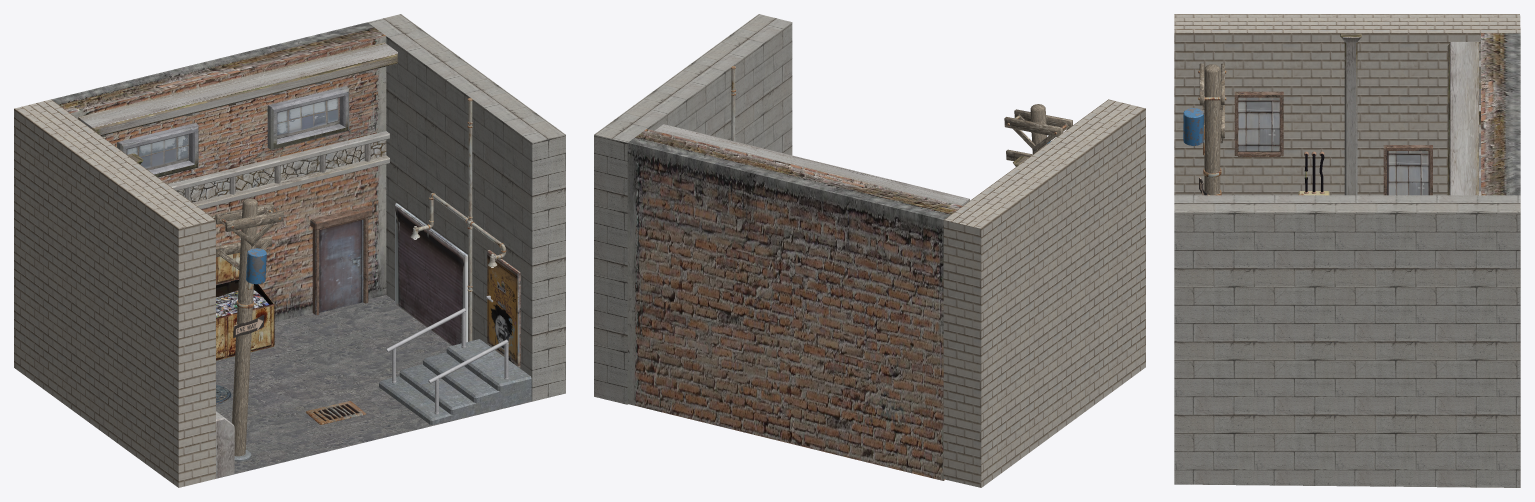
The model's file is backstreet.glb.
3 views of the same model, side by side, from view 1: azimuth 30°, elevation 25°; view 2: azimuth 150°, elevation 25°; view 3: azimuth 270°, elevation 25° (orthographic). The views are drawn at different scales.
Parts seen in each view (by area): view 1: Plane_Yellow facade brick_0, Plane.002_Material.002_0, Plane.003_Red Brick_0, Floor_Asphalt_0, Cube.009_Concrete facade_0, Cube.007_Concret stairs_0, Cube.025_Material.001_0, Cube.003_Wood ecectric stand_0, Cube.013_Windows frames cocrete_0, Wood door_Material_0, Cube.016_Graffity door_0, windows brick wall_Horizontal window_0 (+8 smaller); view 2: Plane.003_Red Brick_0, Plane_Yellow facade brick_0, Plane.002_Material.002_0, Cube.009_Concrete facade_0, Cube.003_Wood ecectric stand_0; view 3: Plane.002_Material.002_0, Plane_Yellow facade brick_0, Cube.009_Concrete facade_0, Plane.003_Red Brick_0, Cube.030_Window vertical_0, Cube.003_Wood ecectric stand_0, Cube.024_wood parts_0, Cylinder.001_Blue metal_0, Cube.020_Black plastic_0.
Boxes of the visible parts, x1=… form: Plane_Yellow facade brick_0: x1=14, y1=99, x2=215, y2=487; Plane.002_Material.002_0: x1=368, y1=14, x2=565, y2=401; Plane.003_Red Brick_0: x1=51, y1=22, x2=386, y2=321; Floor_Asphalt_0: x1=216, y1=295, x2=531, y2=478; Cube.009_Concrete facade_0: x1=78, y1=42, x2=397, y2=478; Cube.007_Concret stairs_0: x1=234, y1=339, x2=531, y2=461; Cube.025_Material.001_0: x1=395, y1=203, x2=467, y2=345; Cube.003_Wood ecectric stand_0: x1=215, y1=198, x2=283, y2=456; Cube.013_Windows frames cocrete_0: x1=117, y1=86, x2=349, y2=177; Wood door_Material_0: x1=319, y1=219, x2=363, y2=312; Cube.016_Graffity door_0: x1=487, y1=250, x2=520, y2=367; windows brick wall_Horizontal window_0: x1=126, y1=97, x2=339, y2=170; Plane.003_Red Brick_0: x1=627, y1=129, x2=962, y2=480; Plane_Yellow facade brick_0: x1=943, y1=99, x2=1145, y2=487; Plane.002_Material.002_0: x1=594, y1=14, x2=792, y2=404; Cube.009_Concrete facade_0: x1=654, y1=124, x2=1028, y2=205; Cube.003_Wood ecectric stand_0: x1=1004, y1=104, x2=1072, y2=161; Plane.002_Material.002_0: x1=1174, y1=195, x2=1520, y2=487; Plane_Yellow facade brick_0: x1=1174, y1=14, x2=1520, y2=195; Cube.009_Concrete facade_0: x1=1340, y1=33, x2=1480, y2=195; Plane.003_Red Brick_0: x1=1481, y1=33, x2=1520, y2=195; Cube.030_Window vertical_0: x1=1238, y1=97, x2=1429, y2=195; Cube.003_Wood ecectric stand_0: x1=1199, y1=63, x2=1224, y2=195; Cube.024_wood parts_0: x1=1234, y1=91, x2=1432, y2=195; Cylinder.001_Blue metal_0: x1=1183, y1=108, x2=1203, y2=145; Cube.020_Black plastic_0: x1=1304, y1=151, x2=1324, y2=193.
Size of the model in its own units: 14799 by 9751 by 10911.
27 materials, 27 textured.
